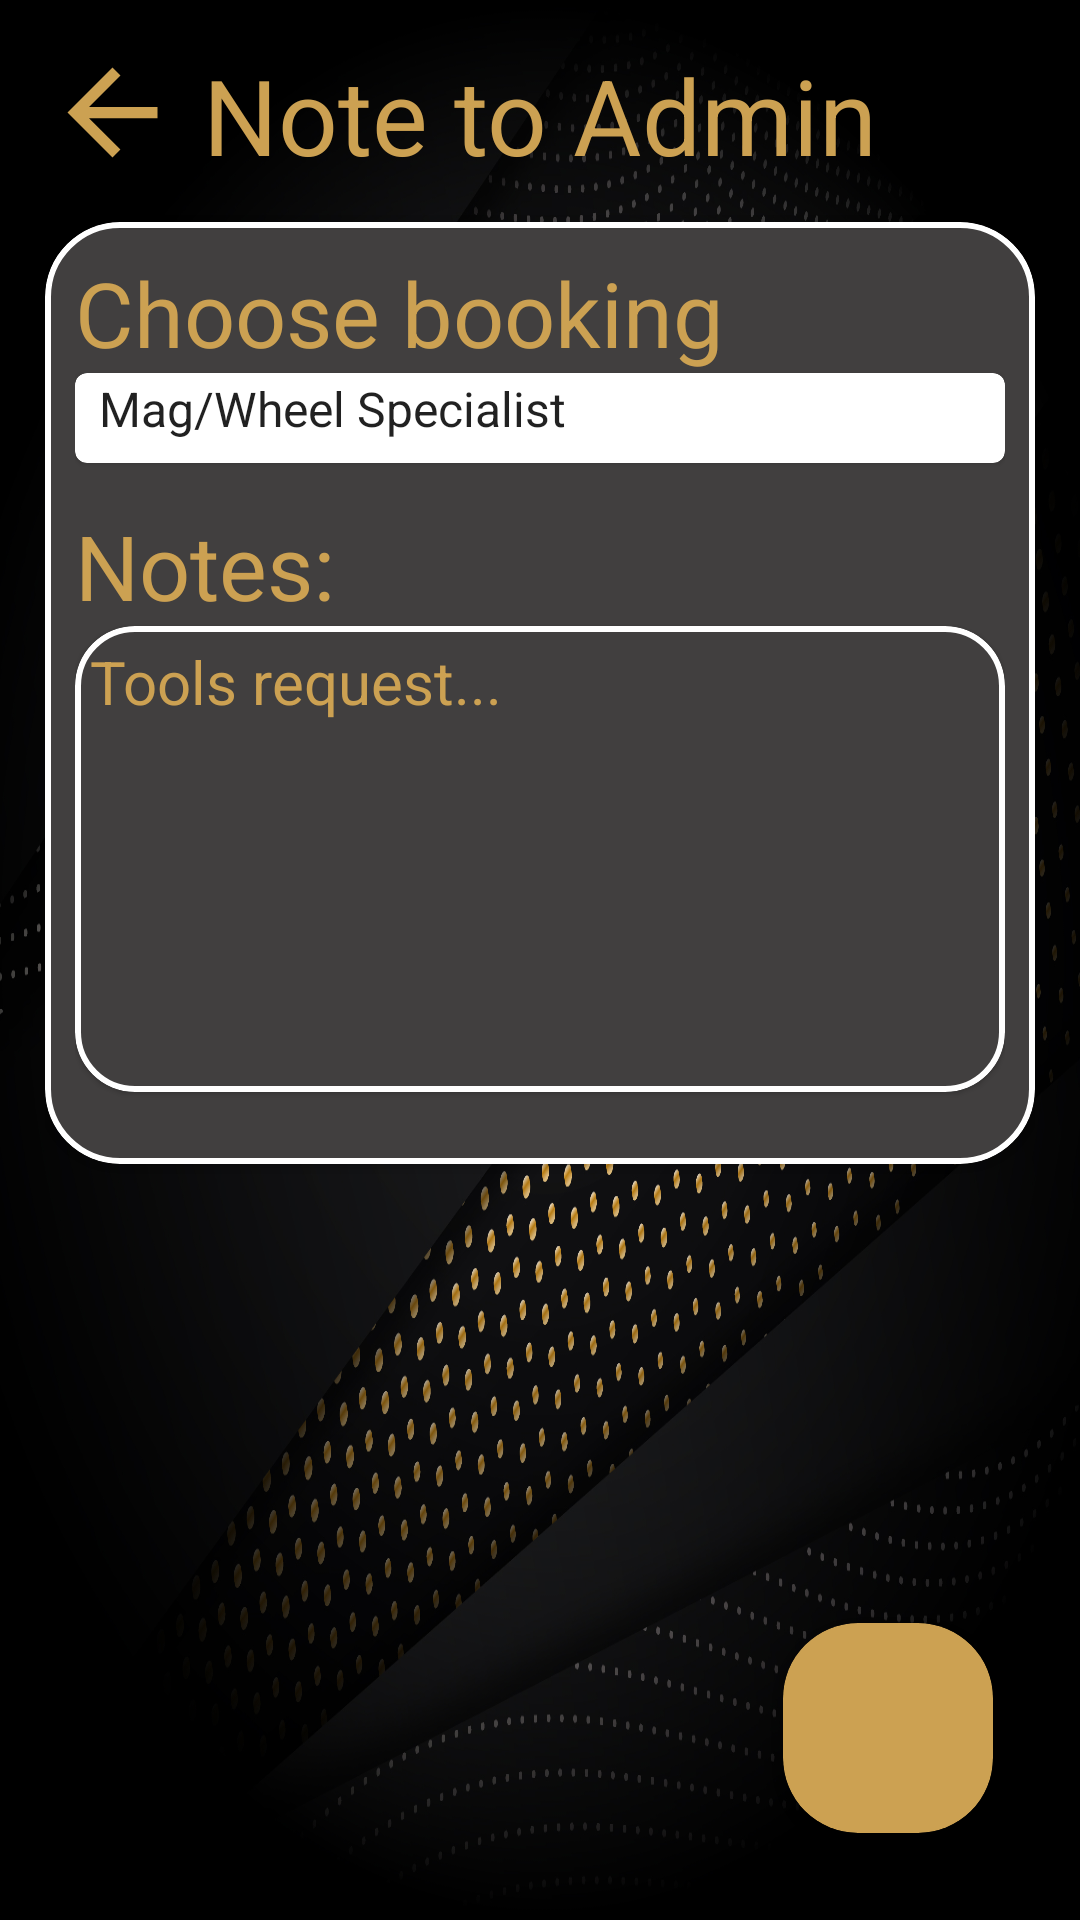

Icons on this 1080 × 1920 Android screen, each with its box as (left=x1, top=y1, right=x2, bottom=y2):
arrow back: (left=67, top=67, right=158, bottom=158)
